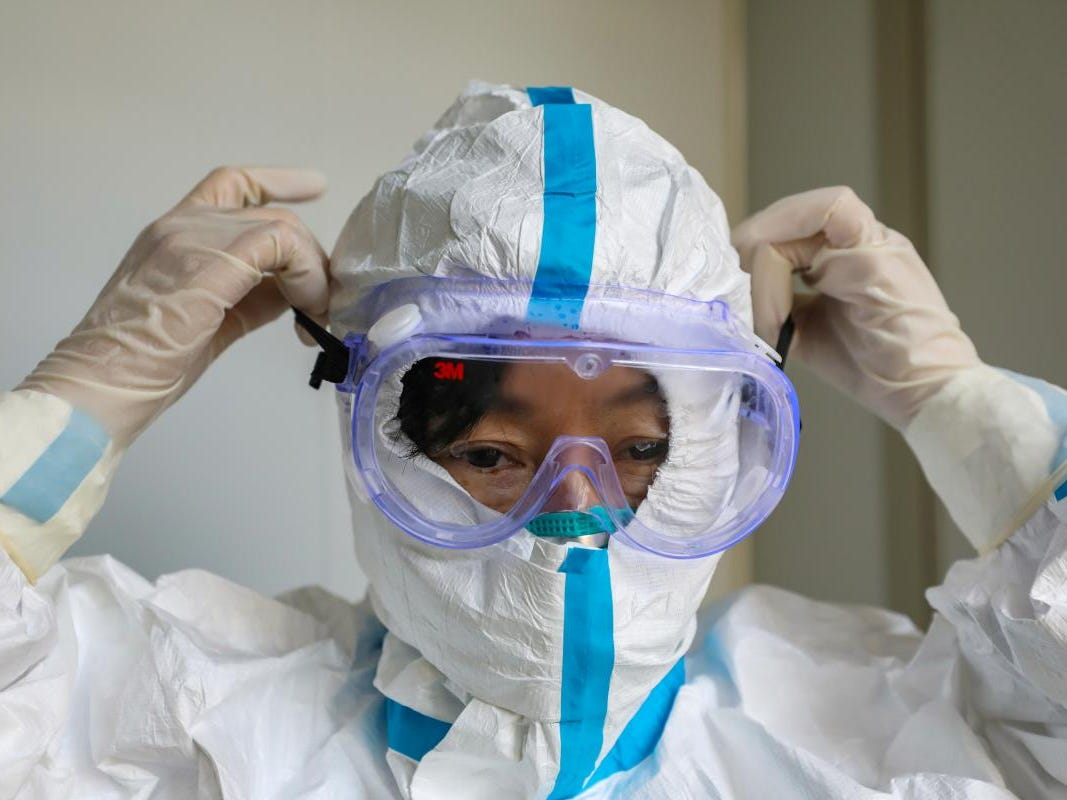Coverall: (3, 76, 1067, 800)
Gloves: (21, 152, 334, 440), (720, 174, 1002, 415)
Goggles: (347, 277, 799, 556)
